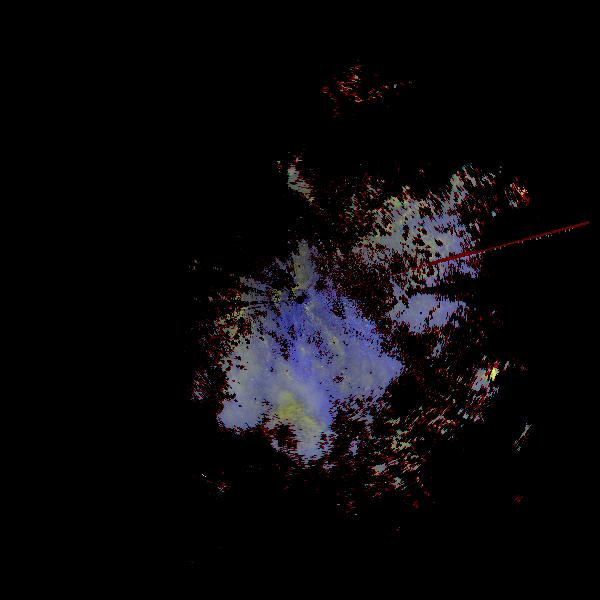roost: (249, 397, 324, 472)
